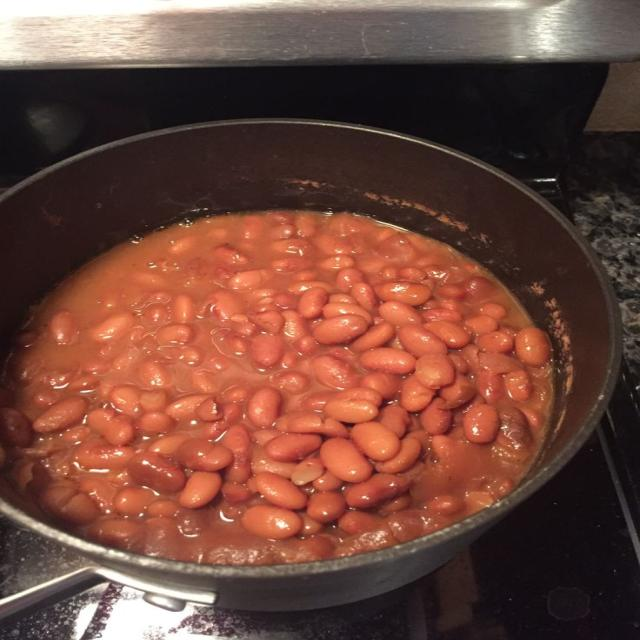beans: (0, 211, 552, 563), (40, 483, 99, 524), (127, 452, 186, 492), (320, 438, 373, 482), (345, 474, 409, 508), (242, 505, 302, 539), (254, 472, 306, 510), (175, 438, 233, 471), (33, 398, 86, 433), (352, 422, 399, 461), (221, 425, 251, 482), (90, 518, 145, 549), (87, 410, 134, 445), (313, 315, 368, 344), (376, 438, 421, 473), (398, 325, 447, 357), (179, 472, 222, 508), (75, 444, 134, 470), (287, 412, 348, 437), (312, 355, 358, 388), (267, 434, 321, 461), (415, 353, 455, 389), (360, 348, 415, 374), (497, 408, 531, 450), (79, 475, 117, 512), (247, 387, 281, 428), (376, 281, 431, 306), (463, 405, 499, 443), (515, 327, 550, 366), (325, 398, 378, 423), (351, 322, 394, 351), (307, 492, 346, 523), (205, 291, 244, 322), (440, 374, 475, 408), (114, 487, 155, 516), (400, 375, 433, 411), (90, 313, 134, 340), (426, 321, 470, 348), (420, 398, 452, 435), (0, 408, 31, 446), (249, 335, 284, 368), (165, 395, 210, 420), (379, 301, 423, 326), (360, 372, 400, 399), (322, 303, 373, 324), (377, 406, 409, 437), (476, 370, 505, 404), (335, 387, 383, 407), (49, 311, 78, 344), (291, 458, 325, 486), (149, 432, 190, 455), (109, 385, 139, 416), (298, 288, 328, 319), (478, 352, 522, 373), (139, 361, 173, 388), (248, 310, 284, 335), (504, 370, 533, 401), (227, 269, 268, 290), (314, 233, 353, 255), (272, 372, 310, 394), (339, 511, 375, 534), (476, 331, 513, 353), (350, 282, 378, 311), (464, 276, 496, 301), (156, 324, 194, 345), (428, 495, 465, 515), (138, 412, 173, 433), (221, 482, 254, 503), (465, 314, 498, 335), (191, 370, 219, 394), (271, 256, 310, 273), (423, 306, 462, 323), (272, 239, 311, 256), (336, 268, 363, 292), (379, 494, 411, 514), (172, 294, 194, 323), (300, 392, 333, 411), (147, 500, 180, 519), (141, 304, 169, 326), (287, 281, 333, 294), (520, 406, 543, 432), (466, 492, 495, 512), (313, 471, 342, 491), (196, 398, 220, 421), (293, 335, 319, 356), (140, 390, 166, 411), (321, 417, 348, 437), (221, 385, 250, 403), (251, 429, 280, 446), (180, 346, 204, 366), (437, 284, 466, 300), (301, 514, 322, 536), (480, 303, 506, 320), (320, 256, 354, 269), (449, 353, 469, 375), (400, 267, 426, 280)
